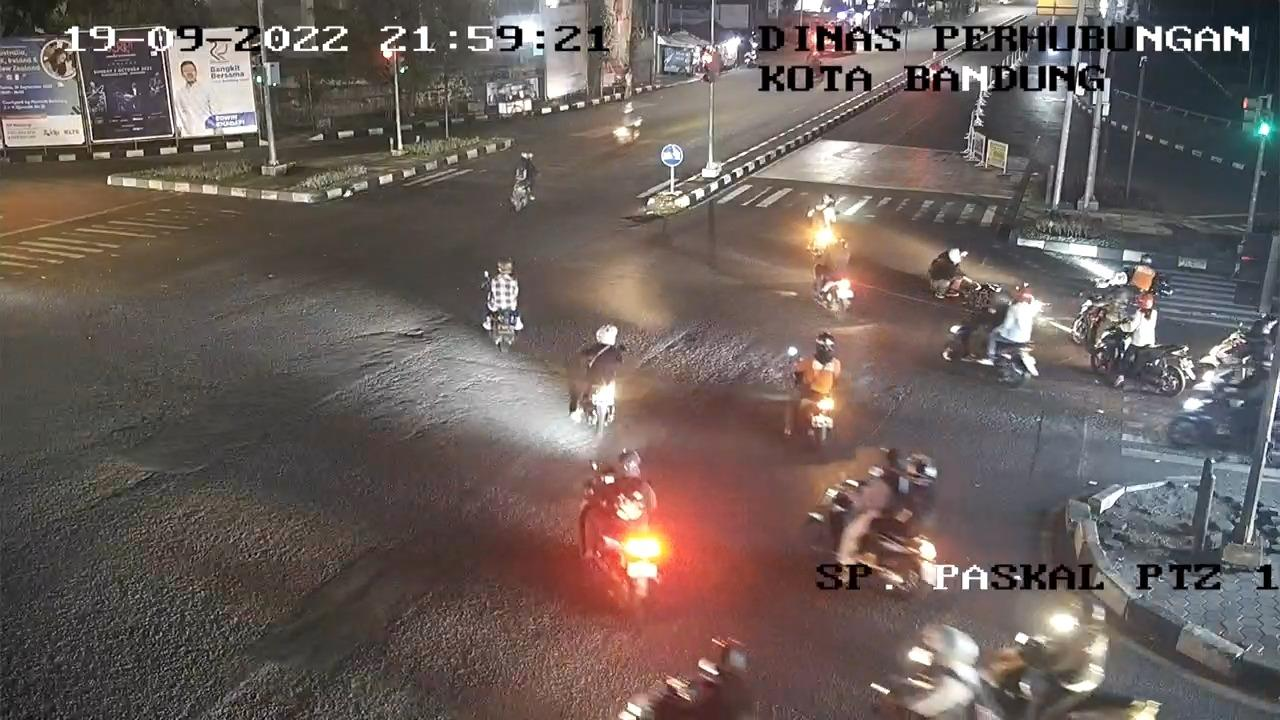accident: (926, 247, 974, 304), (1123, 252, 1161, 293)
